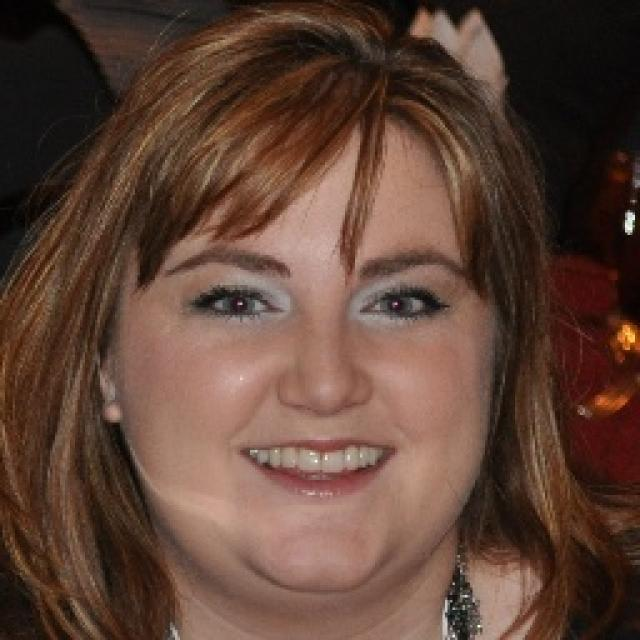earlobe: (66, 310, 122, 428)
